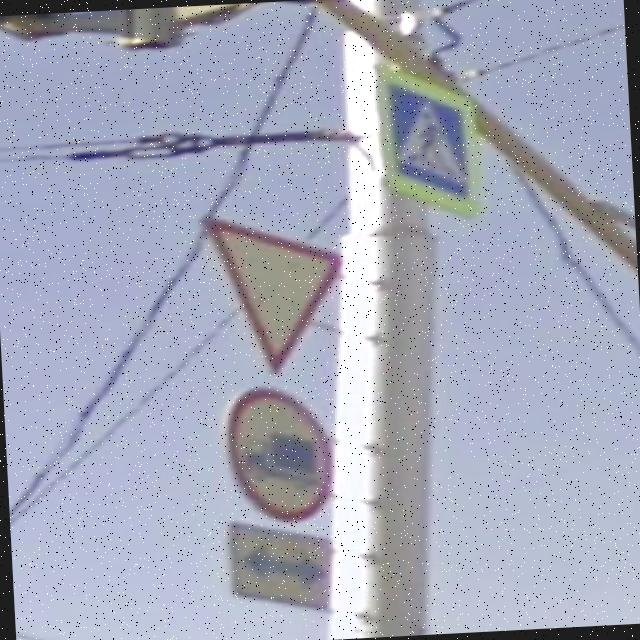Przejscie dla pieszych: (372, 57, 486, 225)
Ustap pierwszenstwa: (200, 208, 350, 376)
